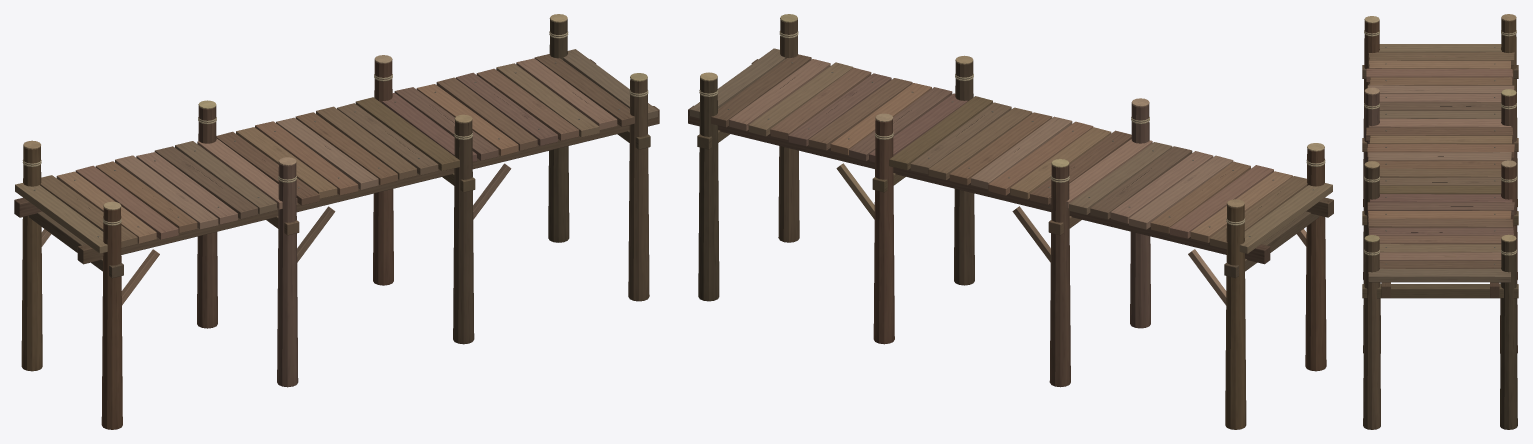
Rendered from pier_working_mcp.glb.
The picture shows the model from 3 angles, left to right: view 1: azimuth 30°, elevation 25°; view 2: azimuth 150°, elevation 25°; view 3: azimuth 270°, elevation 25°; orthographic projection. The views are drawn at different scales.
Visible parts, largest first — view 1: WaterPile_-1_1, WaterPile_-1_2, WaterPile_-1_0, WaterPile_-1_3, Long bearer -1, WaterPile_1_0, WaterPile_1_2, WaterPile_1_3, WaterPile_1_1, Walkboard_00, Walkboard_17, Walkboard_05 (+26 smaller); view 2: WaterPile_1_2, WaterPile_1_0, WaterPile_1_1, WaterPile_1_3, Long bearer 1, WaterPile_-1_0, WaterPile_-1_1, WaterPile_-1_2, WaterPile_-1_3, Walkboard_00, Walkboard_17, Walkboard_05 (+26 smaller); view 3: WaterPile_1_3, WaterPile_-1_3, Walkboard_27, Cross bearer 3, Walkboard_03, Walkboard_10, Walkboard_19, Walkboard_21, Walkboard_11, Walkboard_12, Walkboard_01, Walkboard_22 (+27 smaller).
Boxes of the visible parts, <box> form: WaterPile_-1_1: <box>277,163,298,387</box>; WaterPile_-1_2: <box>453,120,474,344</box>; WaterPile_-1_0: <box>101,207,122,429</box>; WaterPile_-1_3: <box>628,78,649,301</box>; Long bearer -1: <box>77,106,659,264</box>; WaterPile_1_0: <box>21,146,42,371</box>; WaterPile_1_2: <box>373,60,393,285</box>; WaterPile_1_3: <box>548,19,569,242</box>; WaterPile_1_1: <box>197,106,217,328</box>; Walkboard_00: <box>15,183,107,253</box>; Walkboard_17: <box>355,97,459,170</box>; Walkboard_05: <box>115,155,218,229</box>; WaterPile_1_2: <box>873,119,894,344</box>; WaterPile_1_0: <box>1225,205,1246,429</box>; WaterPile_1_1: <box>1049,164,1070,387</box>; WaterPile_1_3: <box>698,78,719,301</box>; Long bearer 1: <box>688,105,1270,264</box>; WaterPile_-1_0: <box>1305,148,1326,371</box>; WaterPile_-1_1: <box>1130,104,1150,328</box>; WaterPile_-1_2: <box>954,61,974,285</box>; WaterPile_-1_3: <box>778,19,799,242</box>; Walkboard_00: <box>1239,183,1332,253</box>; Walkboard_17: <box>889,96,992,170</box>; Walkboard_05: <box>1129,155,1233,229</box>; WaterPile_1_3: <box>1500,239,1517,429</box>; WaterPile_-1_3: <box>1363,239,1380,429</box>; Walkboard_27: <box>1368,268,1510,282</box>; Cross bearer 3: <box>1362,284,1518,298</box>; Walkboard_03: <box>1366,68,1512,82</box>; Walkboard_10: <box>1366,127,1513,140</box>; Walkboard_19: <box>1367,202,1514,215</box>; Walkboard_21: <box>1368,218,1512,228</box>; Walkboard_11: <box>1369,135,1512,144</box>; Walkboard_12: <box>1367,144,1514,157</box>; Walkboard_01: <box>1368,52,1514,65</box>; Walkboard_22: <box>1368,227,1513,235</box>.
Bounding box in the file's own units: 8.06 × 2.97 × 2.22.
3 materials, 1 textured.
